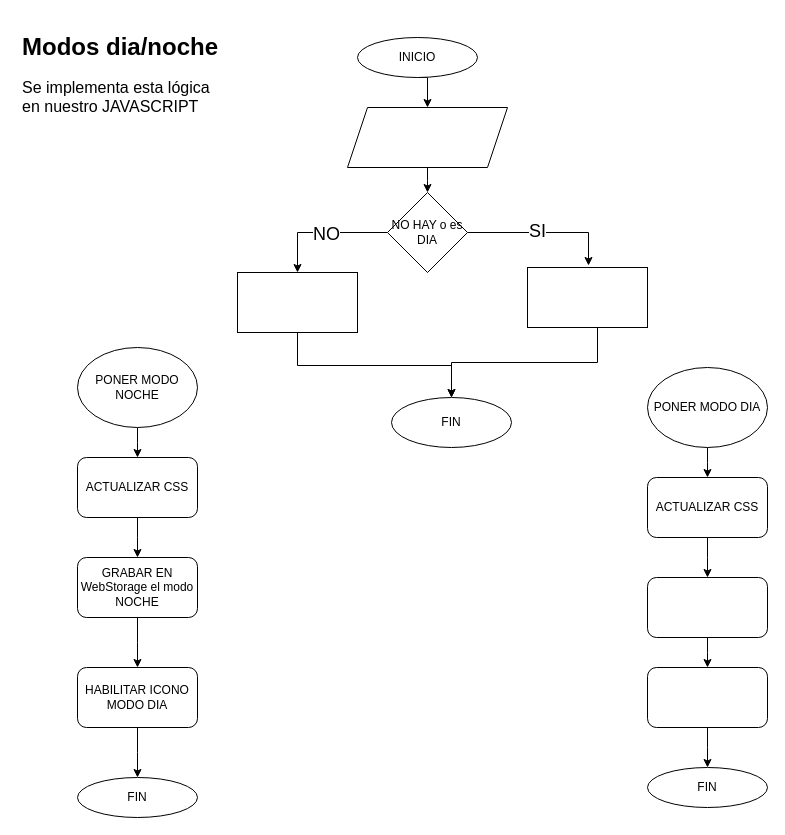
Some shapes in this 785 by 835 pixel diagram are drawn without their labels. The shapes that lost their labels are listed below. From the top down, each one's centre as x and y in pixels, then its label:
At (427,137): "LEER último modo de WebStorage".
At (297,302): "Llamar a poner modo NOCHE".
At (587,297): "Llamar a poner modo DIA".
At (707,607): "GRABAR EN WebStorage el modo DIA".
At (707,697): "HABILITAR ICONO MODO NOCHE".
